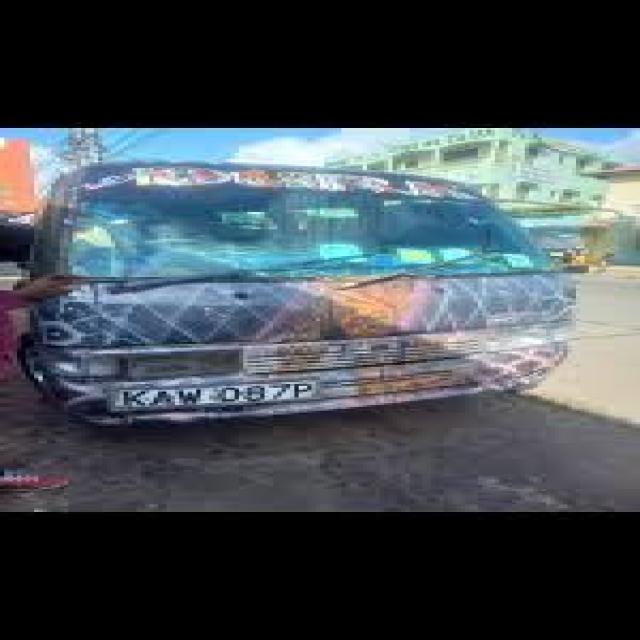matatu: (4, 128, 636, 476)
